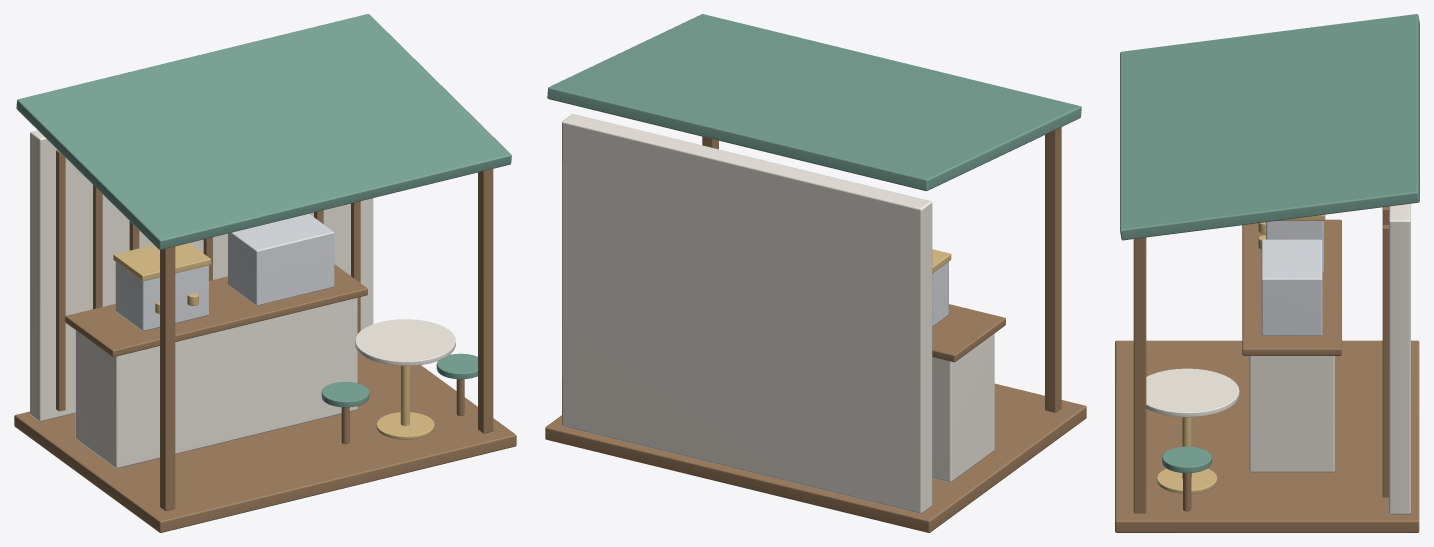
The model's file is cafe_terrace_kiosk_set_v9.glb.
The picture shows the model from 3 angles, left to right: view 1: azimuth 30°, elevation 25°; view 2: azimuth 150°, elevation 25°; view 3: azimuth 270°, elevation 25°; orthographic projection. The views are drawn at different scales.
Visible parts, largest first — view 1: GEO_SlopedFabricAwning, GEO_CafeTerraceDeck, GEO_BaristaCounterBase, GEO_CafeBackWall, GEO_PastryDisplayCase, GEO_BaristaCounterWoodTop, GEO_CanopyCornerPost, GEO_CanopyCornerPost.001, GEO_BistroTableTop, GEO_EspressoMachineBody, GEO_BackWallWoodSlat, GEO_EspressoBrassTrim (+6 smaller); view 2: GEO_CafeBackWall, GEO_SlopedFabricAwning, GEO_CafeTerraceDeck, GEO_BaristaCounterBase, GEO_CanopyCornerPost, GEO_BaristaCounterWoodTop, GEO_EspressoMachineBody; view 3: GEO_SlopedFabricAwning, GEO_CafeTerraceDeck, GEO_BaristaCounterBase, GEO_CafeBackWall, GEO_BaristaCounterWoodTop, GEO_PastryDisplayCase, GEO_BistroTableTop, GEO_CanopyCornerPost.001, GEO_BackWallWoodSlat.008, GEO_EspressoMachineBody, GEO_BistroStoolSeat.001, GEO_BistroTableBase.
Boxes of the visible parts, x1,y1,x2,y2 form: GEO_SlopedFabricAwning: (16, 14, 511, 249); GEO_CafeTerraceDeck: (14, 352, 516, 532); GEO_BaristaCounterBase: (75, 297, 357, 468); GEO_CafeBackWall: (30, 130, 373, 421); GEO_PastryDisplayCase: (228, 214, 334, 305); GEO_BaristaCounterWoodTop: (65, 264, 367, 357); GEO_CanopyCornerPost: (160, 246, 175, 510); GEO_CanopyCornerPost.001: (478, 169, 493, 433); GEO_BistroTableTop: (355, 319, 455, 365); GEO_EspressoMachineBody: (115, 262, 208, 331); GEO_BackWallWoodSlat: (56, 150, 65, 411); GEO_EspressoBrassTrim: (113, 243, 211, 281); GEO_CafeBackWall: (562, 114, 932, 513); GEO_SlopedFabricAwning: (547, 14, 1081, 191); GEO_CafeTerraceDeck: (545, 383, 1086, 532); GEO_BaristaCounterBase: (932, 333, 994, 482); GEO_CanopyCornerPost: (1045, 127, 1061, 412); GEO_BaristaCounterWoodTop: (932, 304, 1005, 362); GEO_EspressoMachineBody: (932, 262, 948, 326); GEO_SlopedFabricAwning: (1120, 14, 1419, 240); GEO_CafeTerraceDeck: (1115, 340, 1419, 532); GEO_BaristaCounterBase: (1249, 356, 1334, 472); GEO_CafeBackWall: (1389, 203, 1410, 514); GEO_BaristaCounterWoodTop: (1242, 219, 1341, 355); GEO_PastryDisplayCase: (1261, 239, 1322, 335); GEO_BistroTableTop: (1146, 368, 1239, 417); GEO_CanopyCornerPost.001: (1133, 237, 1146, 513); GEO_BackWallWoodSlat.008: (1382, 225, 1388, 497); GEO_EspressoMachineBody: (1266, 221, 1323, 272); GEO_BistroStoolSeat.001: (1162, 446, 1211, 473); GEO_BistroTableBase: (1156, 468, 1217, 493).
Size of the model in its own units: 3.1 by 2.71 by 2.2.
